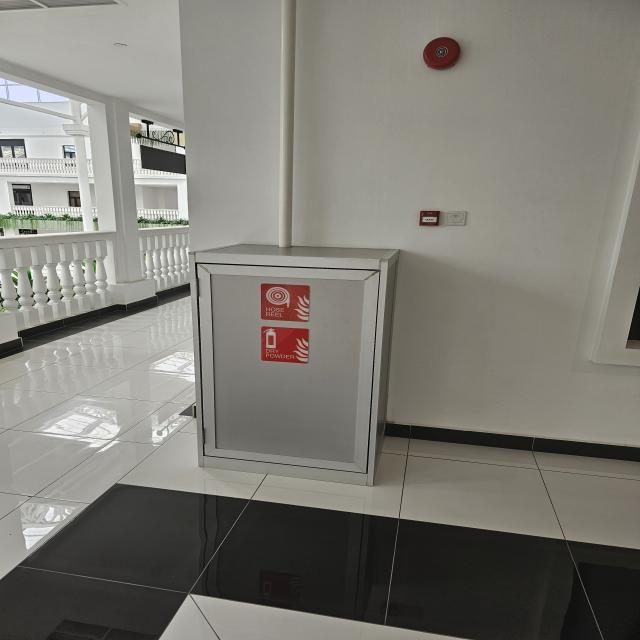footpath: (0, 465, 638, 640), (1, 292, 198, 578)
obstacle: (189, 243, 400, 486)
